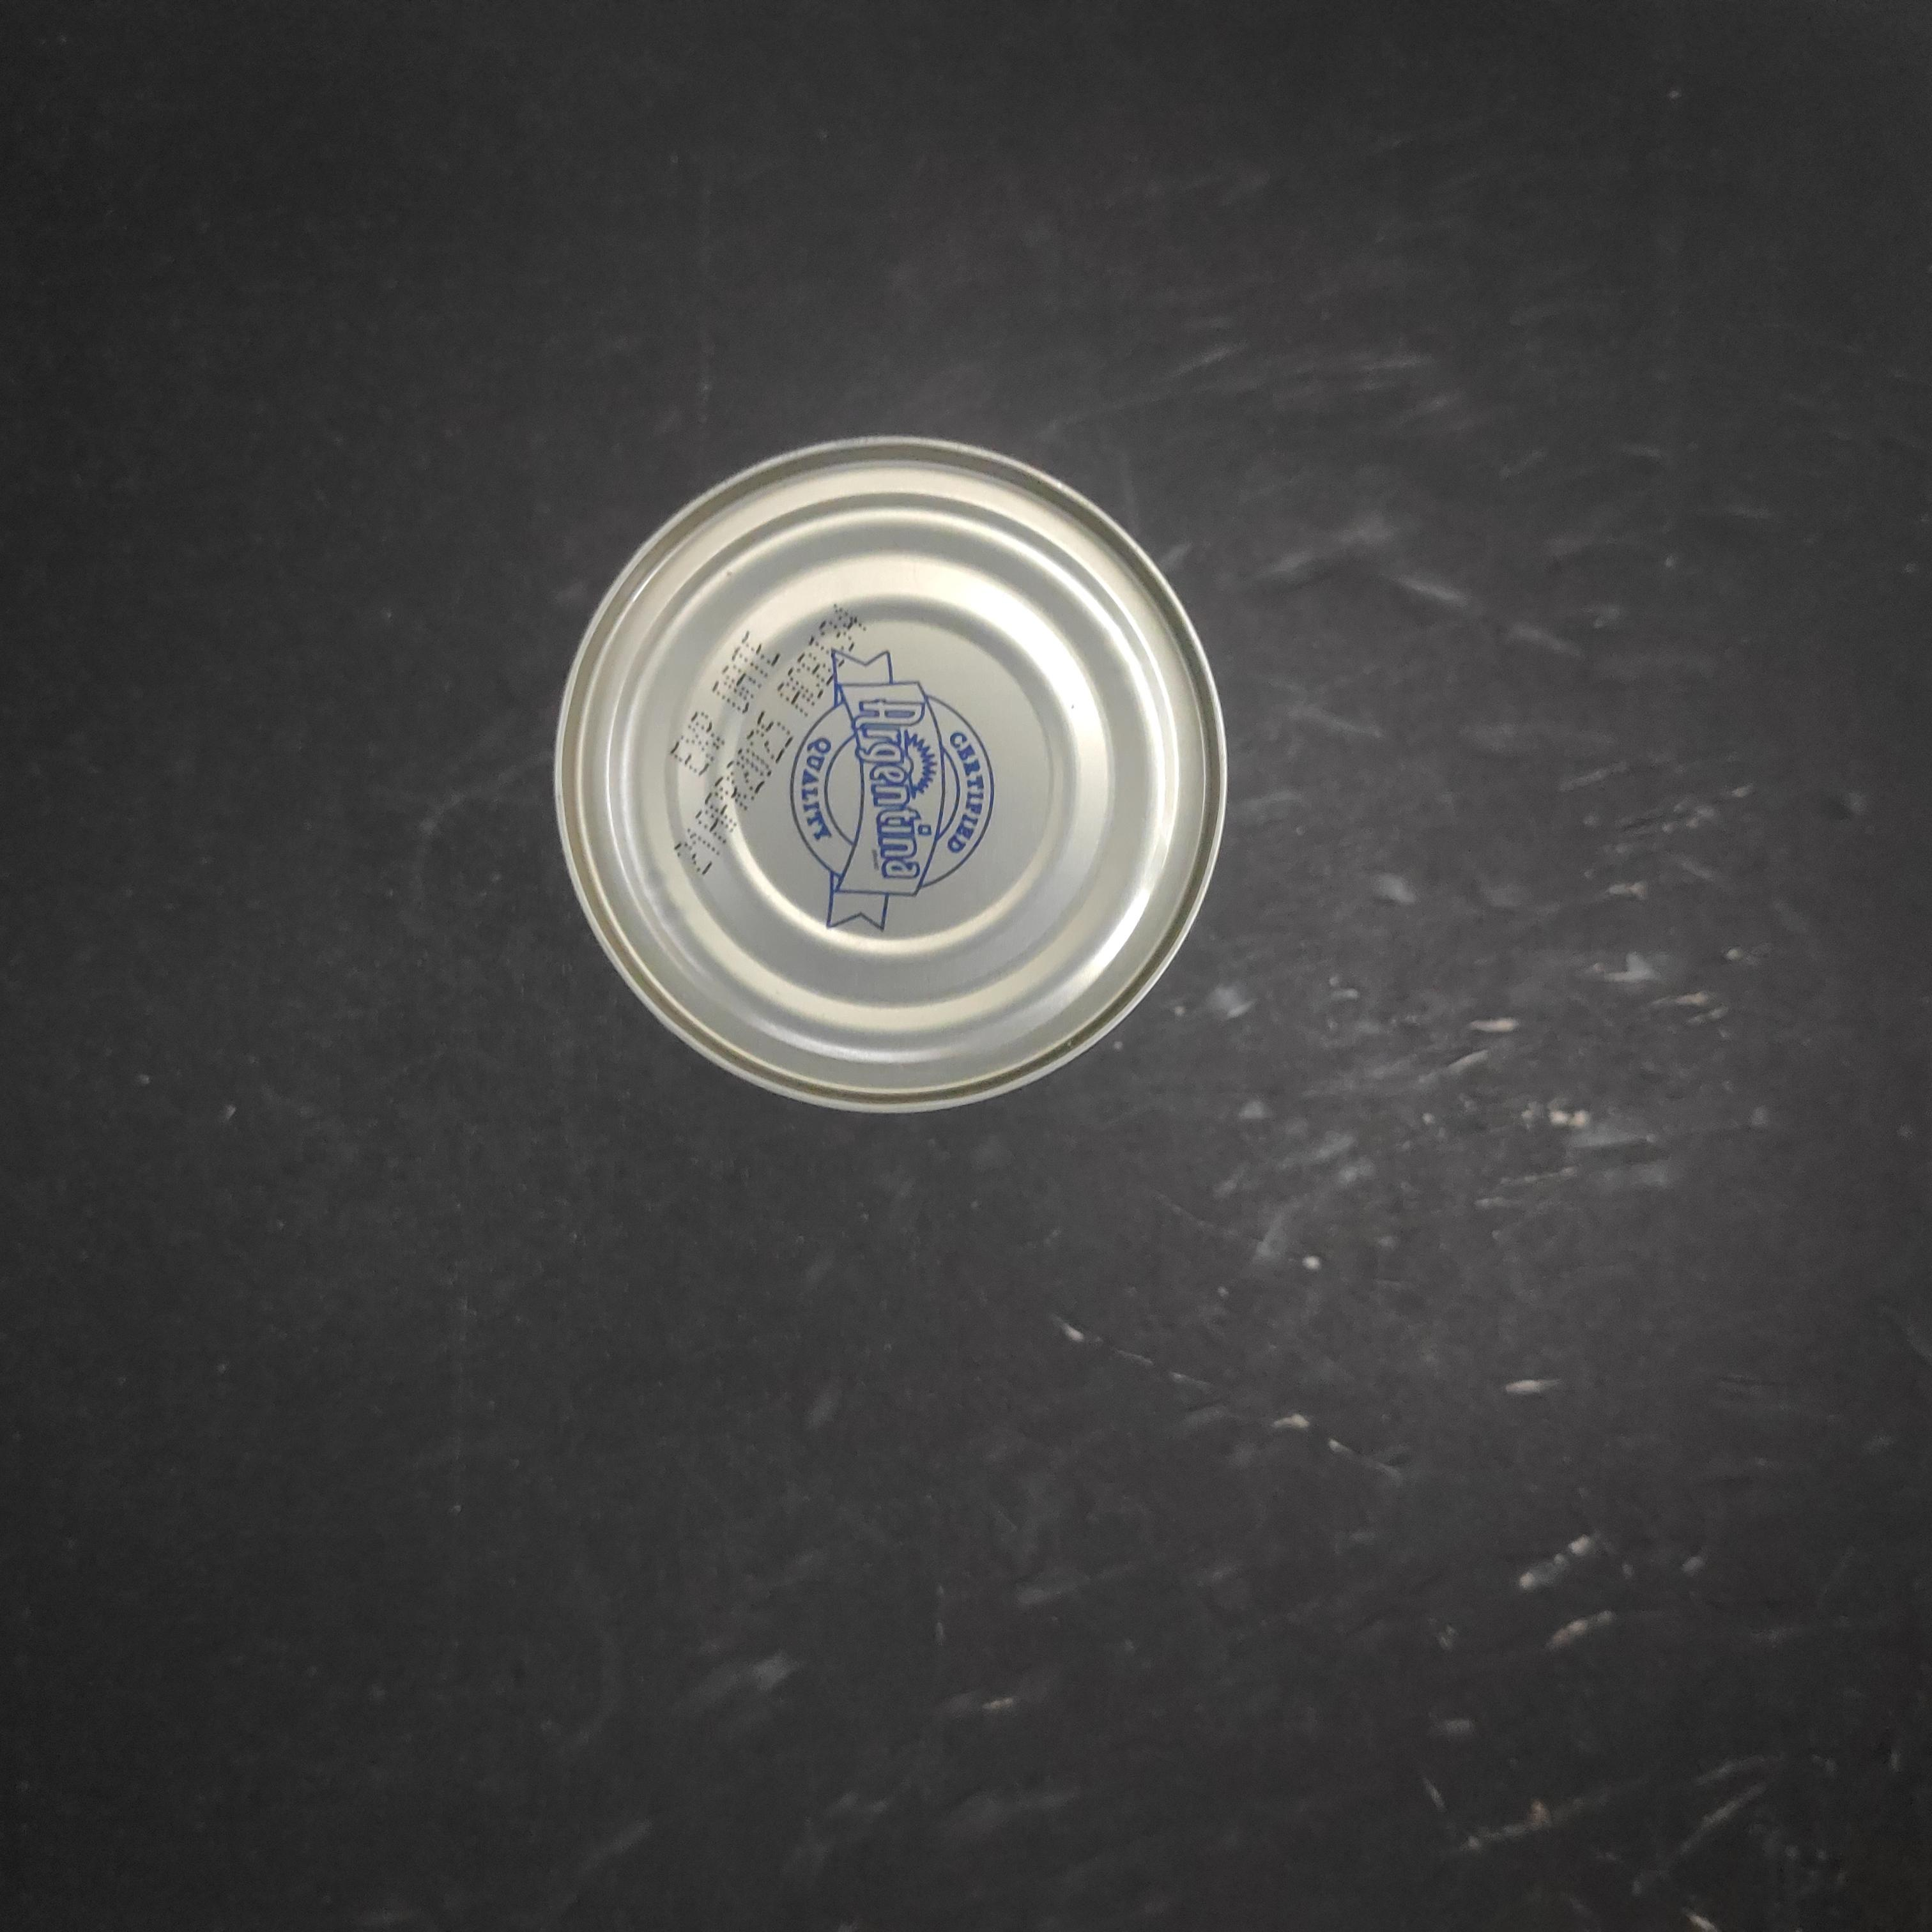No defect: (541, 426, 1244, 1139)
